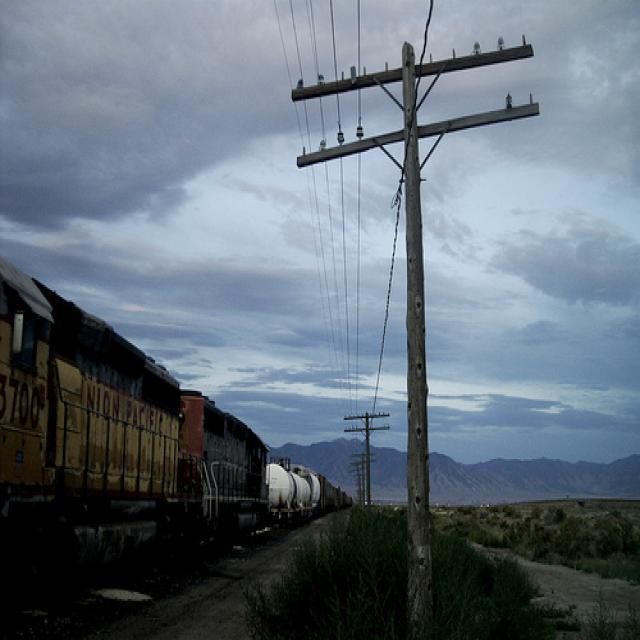crossarm: (417, 92, 540, 137), (296, 126, 404, 167), (291, 63, 402, 101), (413, 43, 532, 77)
pole: (396, 41, 438, 640)
wire: (305, 166, 338, 389), (326, 162, 348, 394), (376, 191, 401, 393), (342, 162, 351, 420), (356, 154, 362, 413), (273, 0, 291, 85), (305, 0, 320, 84), (288, 0, 303, 82), (419, 0, 434, 67), (328, 0, 337, 80), (356, 0, 365, 77)
